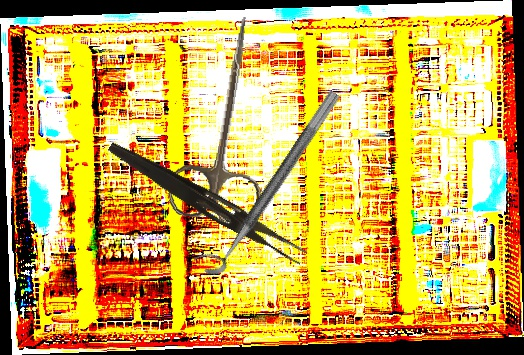Dressing Forceps: (102, 139, 311, 266)
Fixation Ring: (191, 79, 342, 281)
Iris Scissors: (165, 10, 286, 226)
